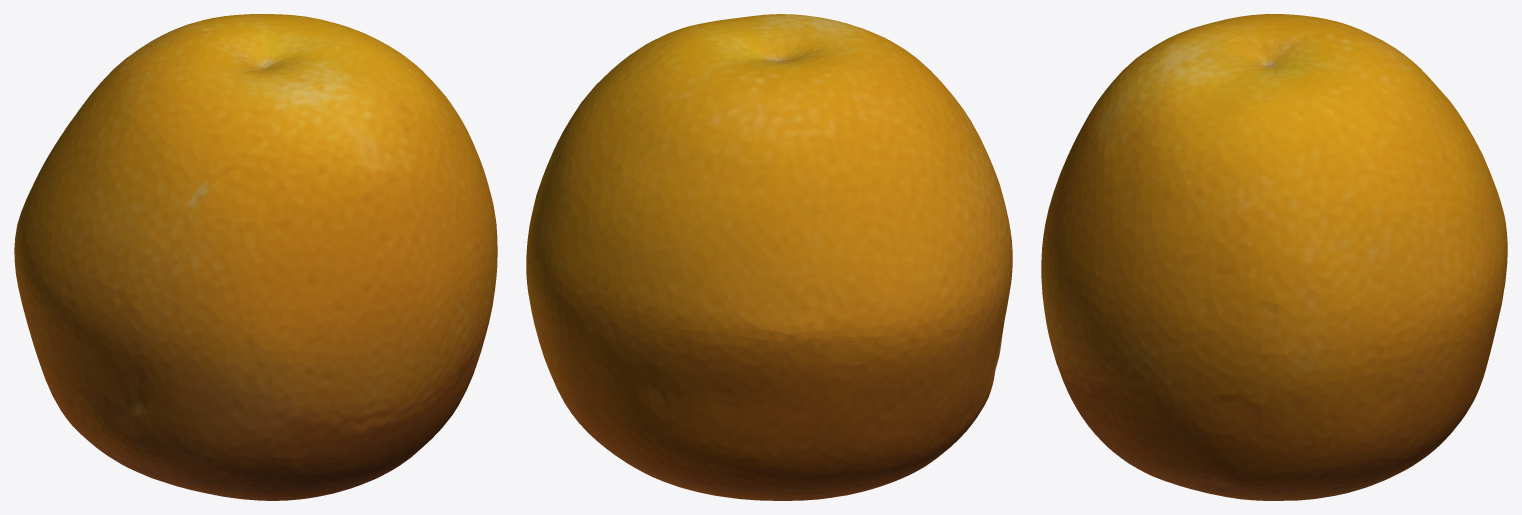
3 views of the same model, side by side, from view 1: azimuth 30°, elevation 25°; view 2: azimuth 150°, elevation 25°; view 3: azimuth 270°, elevation 25° (orthographic).
Visible parts, largest first — view 1: world; view 2: world; view 3: world.
Part boxes in pixels (x1,y1,x2,y2): world: [14, 14, 497, 500]; world: [526, 14, 1012, 500]; world: [1041, 14, 1507, 500].
Bounding box in the file's own units: 0.0581 × 0.0531 × 0.0552.
Materials: 1 (1 with a texture image).
